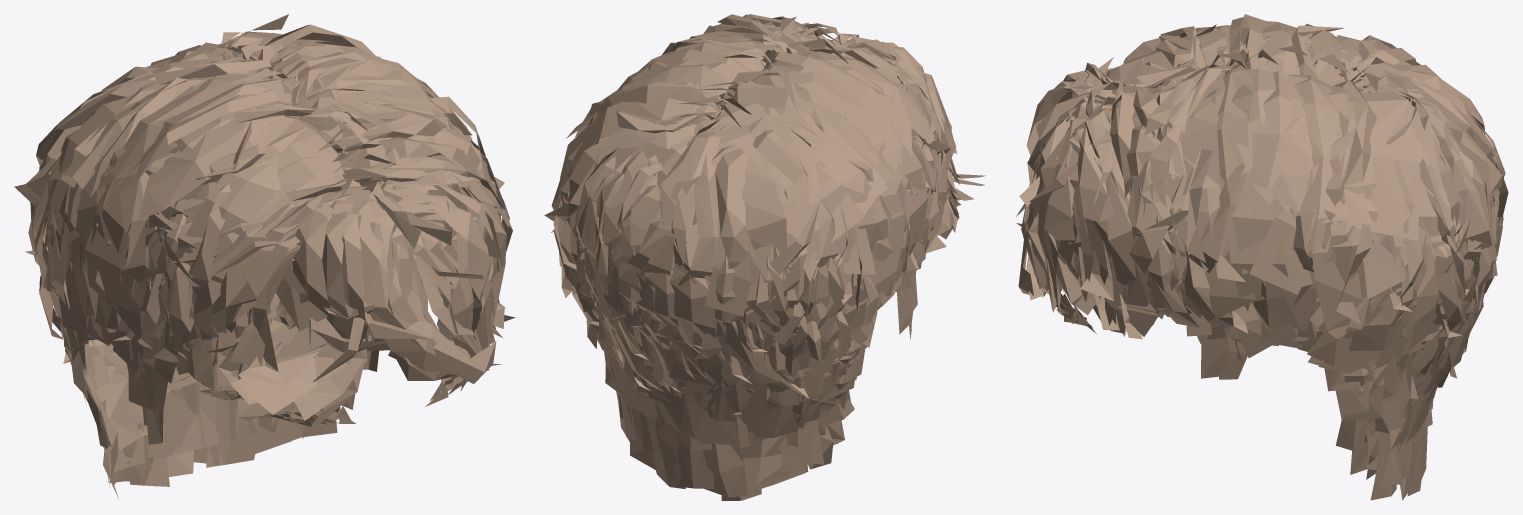
Rendered from male_hair_02_lod0.glb.
3 renders of one model, left to right at view 1: azimuth 30°, elevation 25°; view 2: azimuth 150°, elevation 25°; view 3: azimuth 270°, elevation 25°, orthographic. The views are drawn at different scales.
Parts seen in each view (by area): view 1: hair_02; view 2: hair_02; view 3: hair_02.
Part boxes in pixels (left/top/right/bottom): hair_02: left=14, top=14, right=515, bottom=498; hair_02: left=544, top=14, right=985, bottom=500; hair_02: left=1016, top=14, right=1508, bottom=500.
Bounding box in the file's own units: 0.1714 × 0.2051 × 0.2077.
